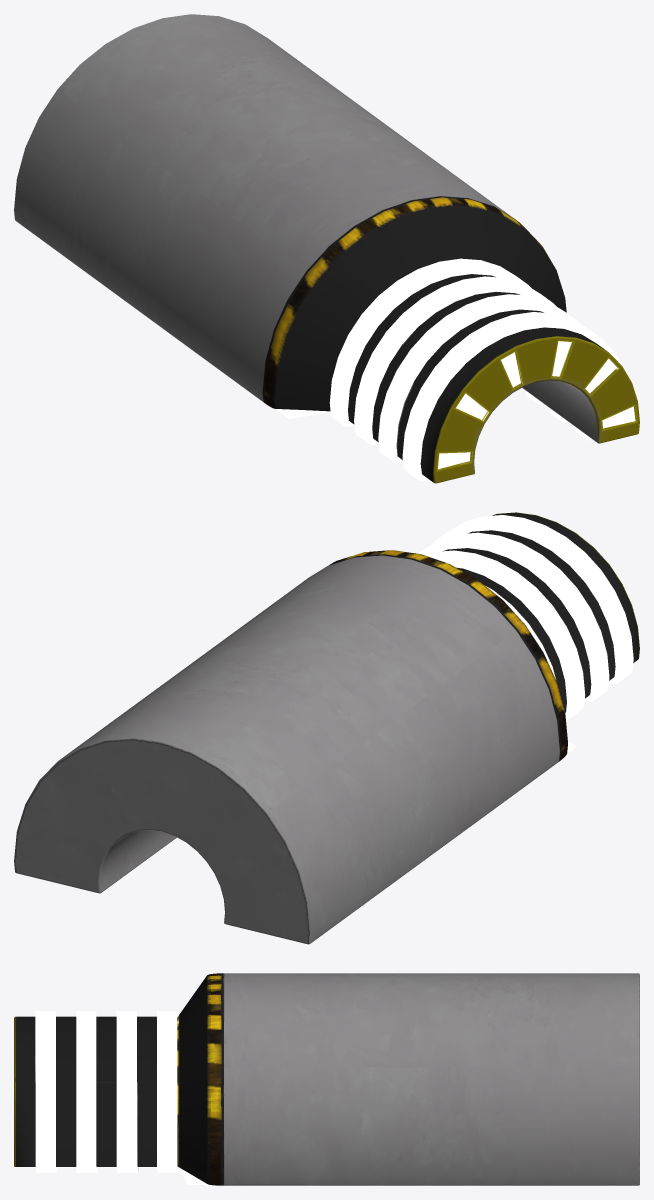
The model's file is Spawn area.fbx.
3 views of the same model, one above another, from view 1: azimuth 30°, elevation 25°; view 2: azimuth 150°, elevation 25°; view 3: azimuth 270°, elevation 25° (orthographic). The views are drawn at different scales.
Visible parts, largest first — view 1: Cylinder.005; view 2: Cylinder.005; view 3: Cylinder.005.
Boxes of the visible parts, <box> form: Cylinder.005: <box>14,14,639,483</box>; Cylinder.005: <box>14,512,639,944</box>; Cylinder.005: <box>14,973,639,1185</box>.
Bounding box in the file's own units: 364 × 203 × 796.
Materials: 1 (1 with a texture image).
